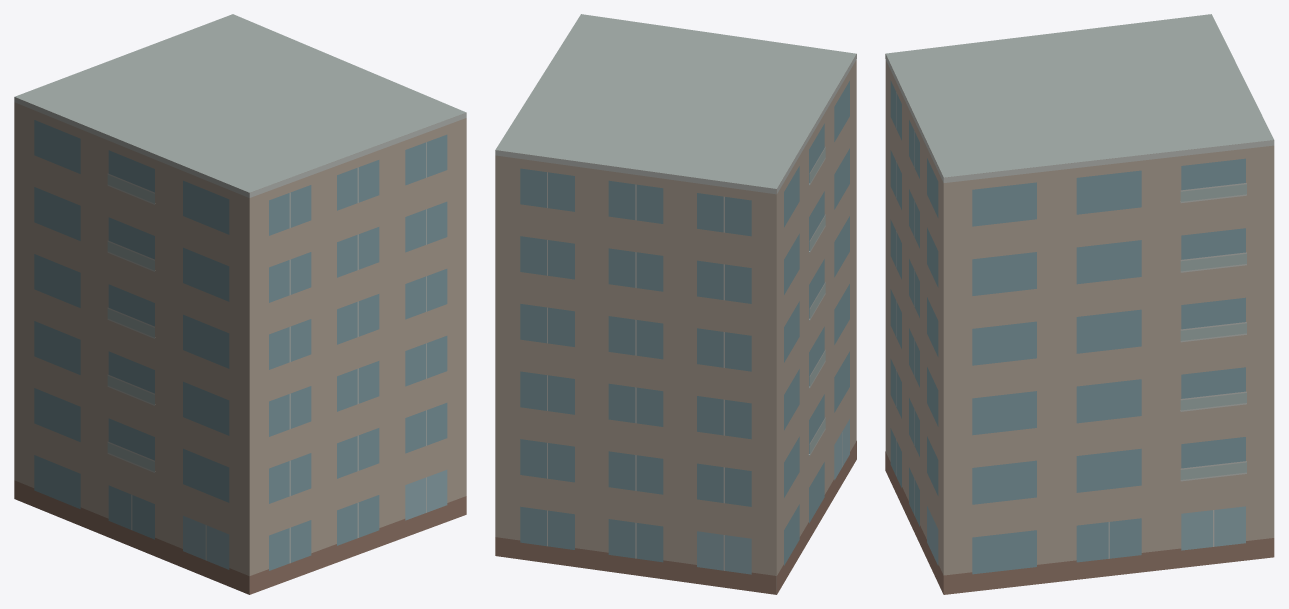
File: survey-upis-32839508.glb
3 views of the same model, side by side, from view 1: azimuth 30°, elevation 25°; view 2: azimuth 150°, elevation 25°; view 3: azimuth 270°, elevation 25° (orthographic). The views are drawn at different scales.
Parts seen in each view (by area): view 1: survey-upis-32839508.tmp; view 2: survey-upis-32839508.tmp; view 3: survey-upis-32839508.tmp.
Part boxes in pixels (<box>): survey-upis-32839508.tmp: <box>14,14,466,594</box>; survey-upis-32839508.tmp: <box>495,14,856,594</box>; survey-upis-32839508.tmp: <box>885,14,1274,594</box>.
Size of the model in its own units: 15.4 by 18.3 by 15.46.
